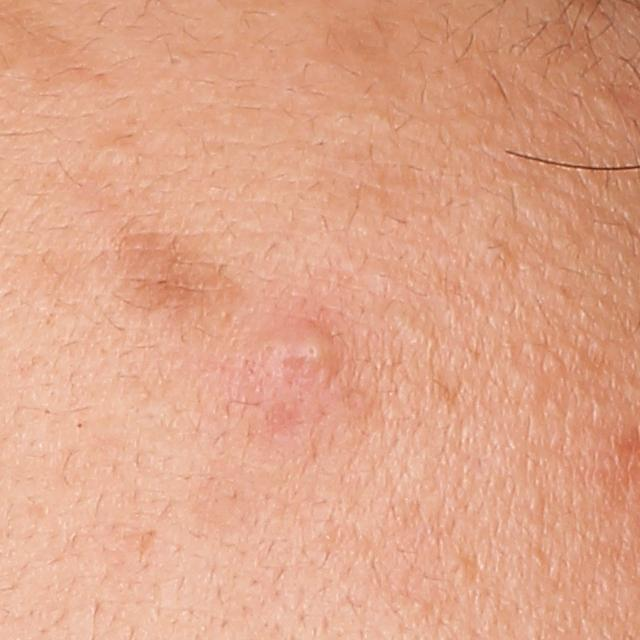comedo: (85, 133, 142, 173), (592, 86, 624, 119), (161, 53, 188, 70)
